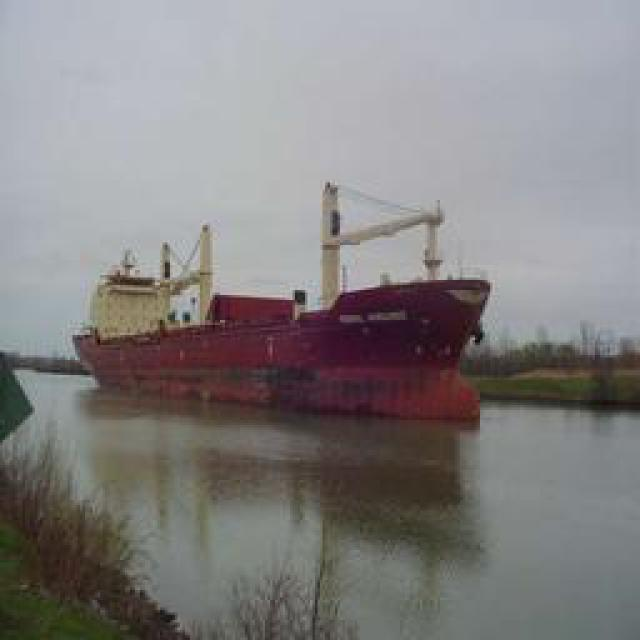Ship: (75, 249, 493, 412)
